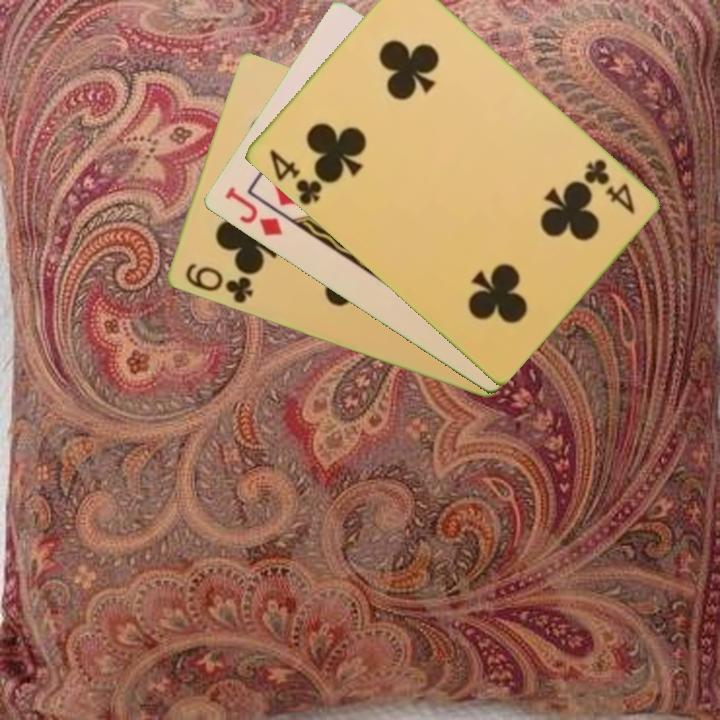4c: (264, 146, 329, 208), (579, 155, 638, 218)
6c: (181, 260, 256, 307)
Jd: (220, 183, 285, 240)
